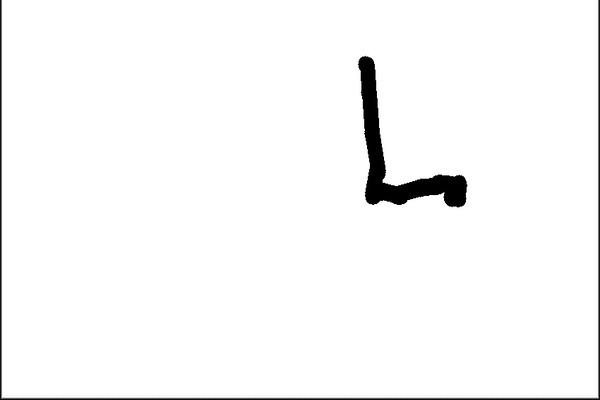L: (348, 47, 474, 215)
